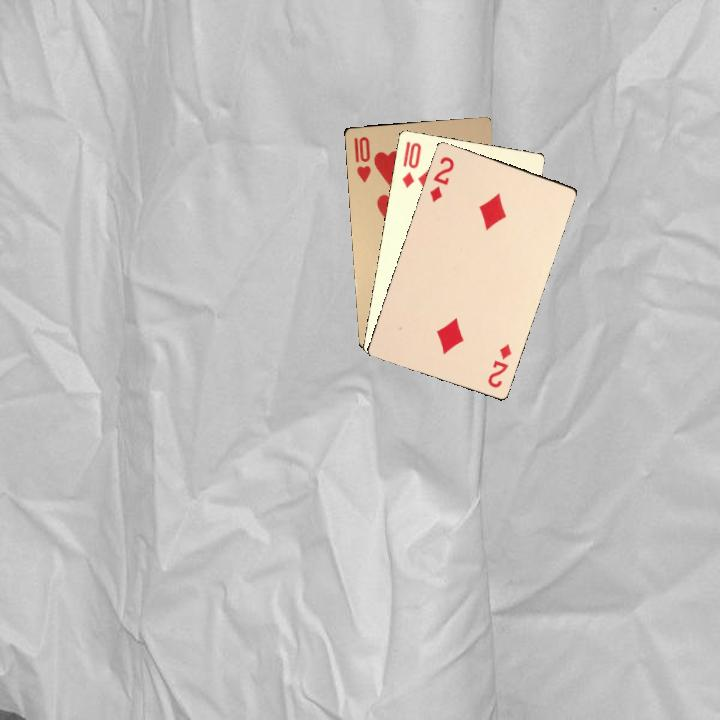10d: (398, 137, 424, 191)
10h: (350, 133, 373, 185)
2d: (426, 153, 457, 204), (484, 340, 514, 390)
